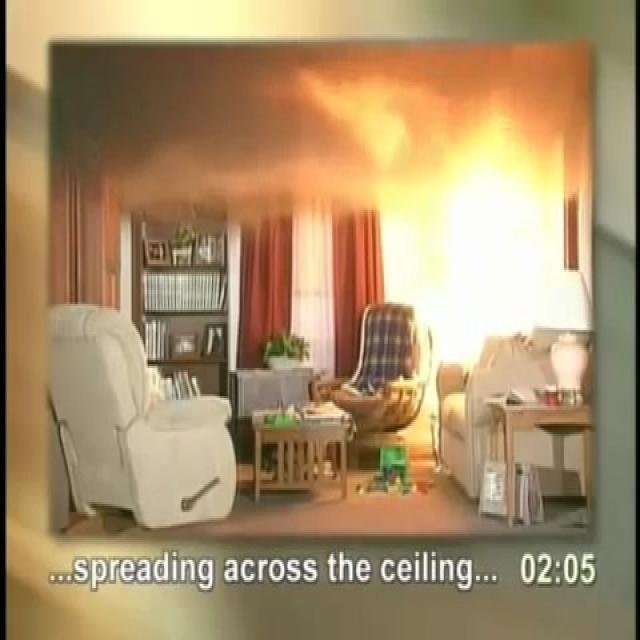Fire: (113, 43, 595, 242)
